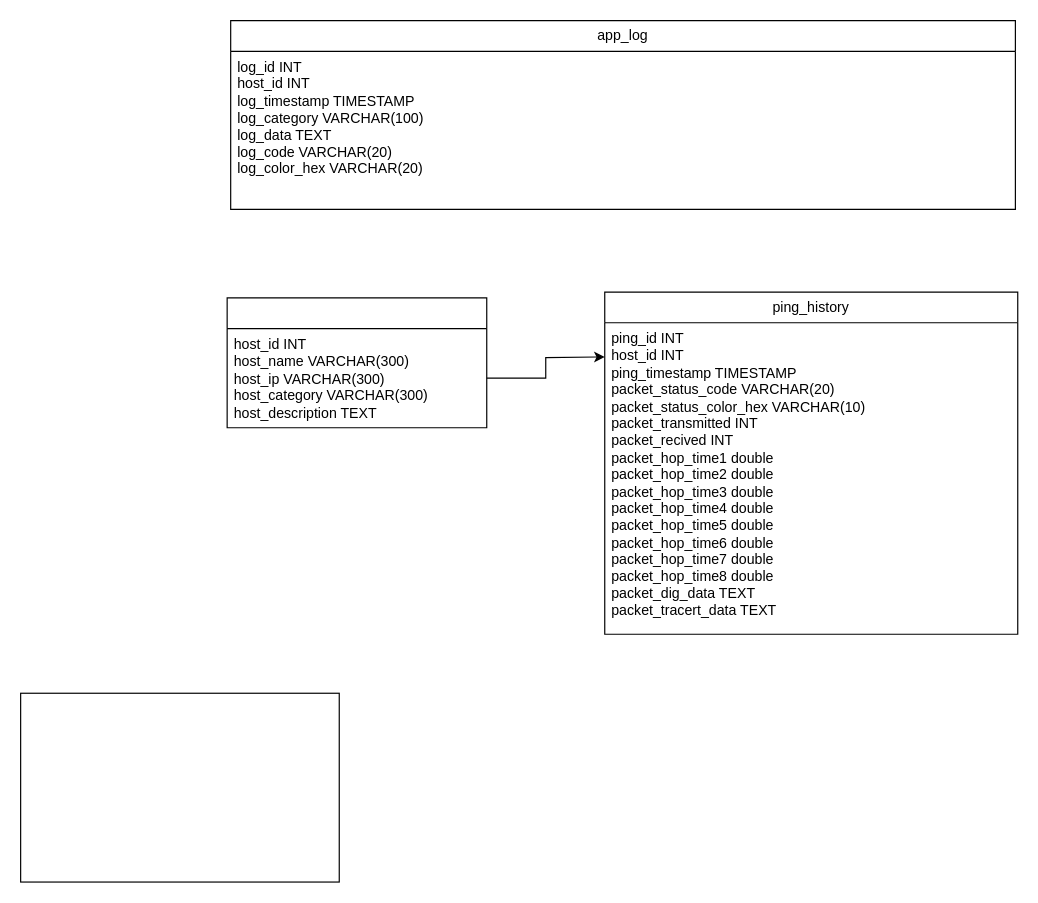
The diagram is 1038 pixels wide and 903 high, and some of its shapes have lost their labels. The shapes that lost their labels are listed below. From the top down, each one's box as (x1, y1, x2, y2) in pixels, then its label:
(226, 297, 487, 428): host_data
(19, 692, 339, 882): pynk database schema v 1.0.0 by Jakub Wawak
